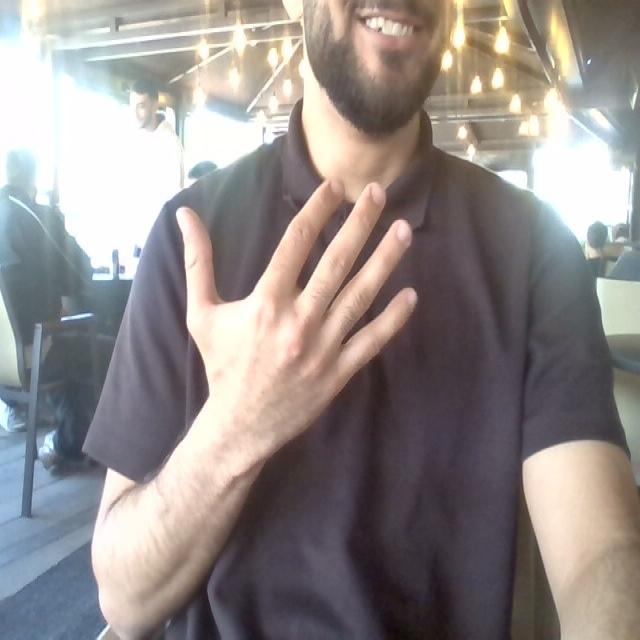Hand: (177, 182, 416, 455)
